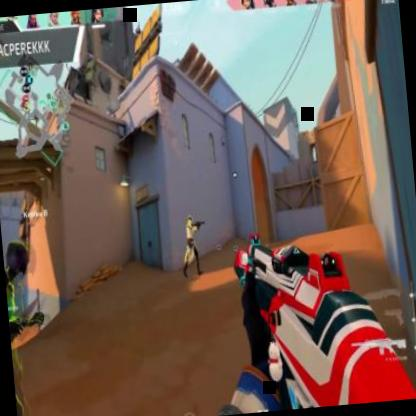enemy: (1, 233, 52, 416), (178, 212, 209, 277)
enemy_head: (5, 242, 35, 279), (188, 214, 193, 222)
